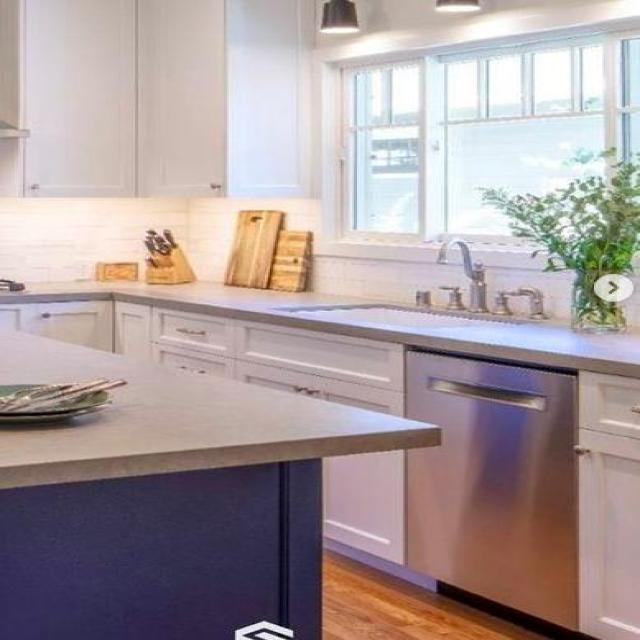dishwasher: (402, 343, 578, 631)
